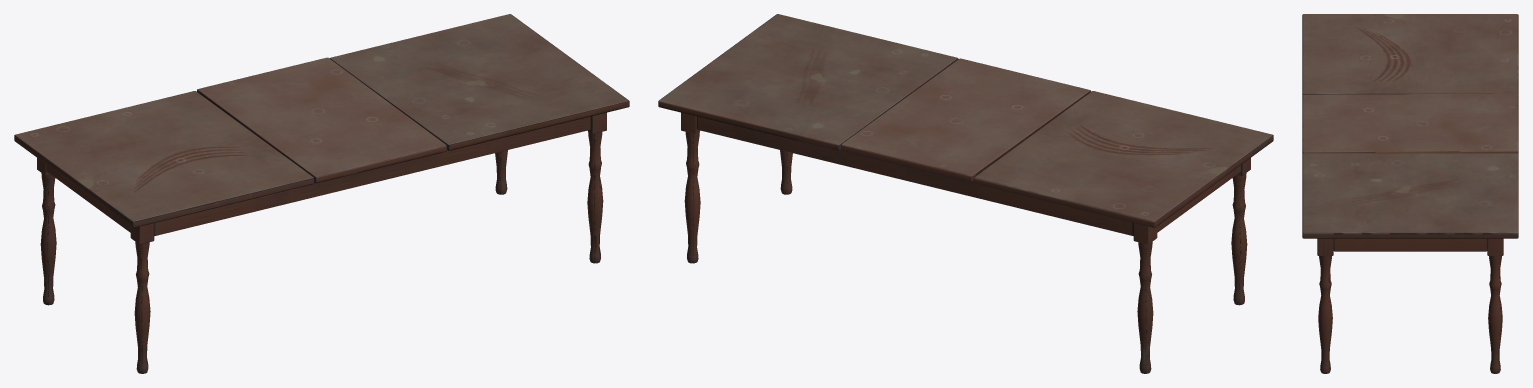
The model's file is furniture_table_dining.glb.
3 views of the same model, side by side, from view 1: azimuth 30°, elevation 25°; view 2: azimuth 150°, elevation 25°; view 3: azimuth 270°, elevation 25° (orthographic). The views are drawn at different scales.
Visible parts, largest first — view 1: furniture_table_dining; view 2: furniture_table_dining; view 3: furniture_table_dining.
Part boxes in pixels (x1=…): furniture_table_dining: x1=14, y1=14, x2=629, y2=373; furniture_table_dining: x1=658, y1=14, x2=1273, y2=373; furniture_table_dining: x1=1302, y1=14, x2=1518, y2=373.
Size of the model in its own units: 2.4 by 0.7647 by 1.
1 material, 1 textured.
